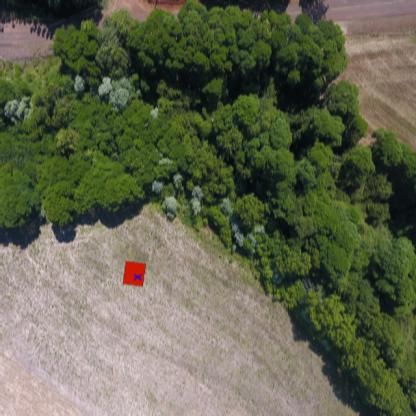rectangle: (120, 258, 147, 289), (133, 271, 143, 283)
